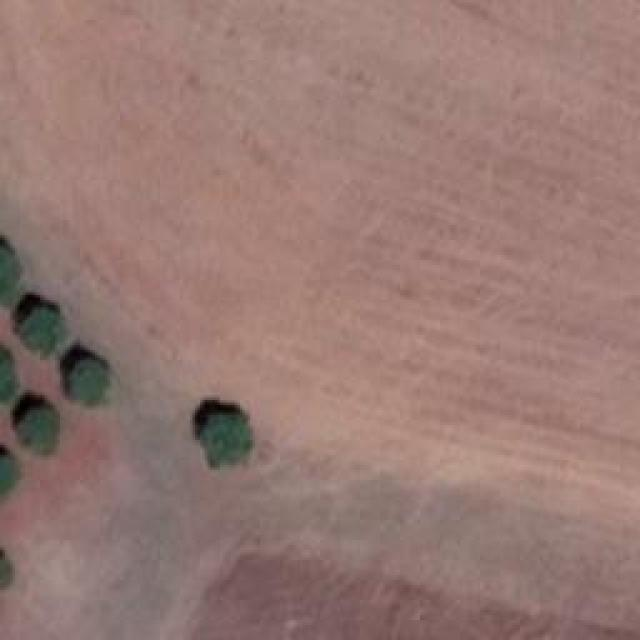Tree: (205, 415, 250, 468), (20, 305, 63, 353), (75, 357, 115, 405), (20, 408, 58, 453), (0, 242, 22, 299), (0, 343, 18, 403), (0, 457, 22, 500)
